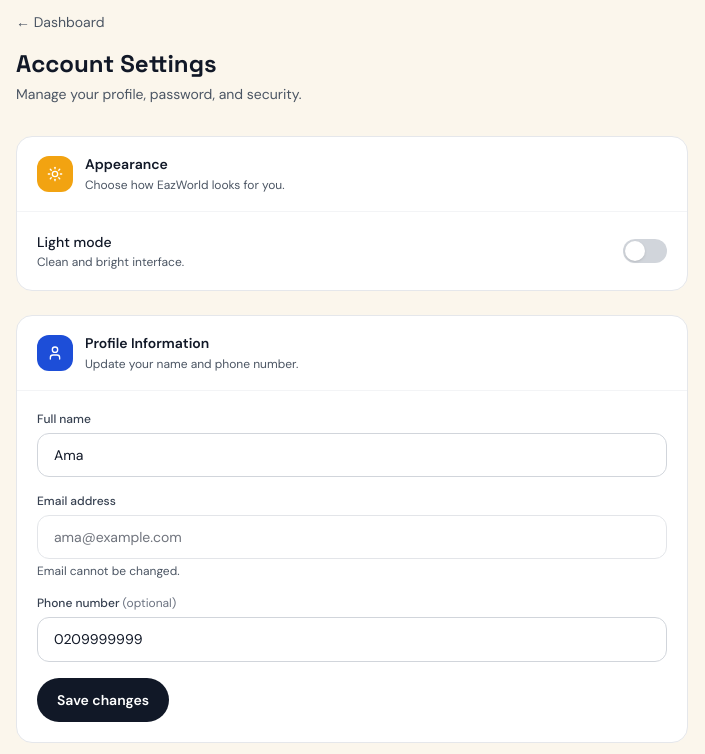
Test: Settings — phone change needs an SMS code (T84) › accepts only digits, capped at six
The width and height of the screenshot is (705, 754).
Step 1. Replace the text in the field labelled "Phone number (optional)" with "0244000111" → (352, 640), box [37, 617, 667, 662]
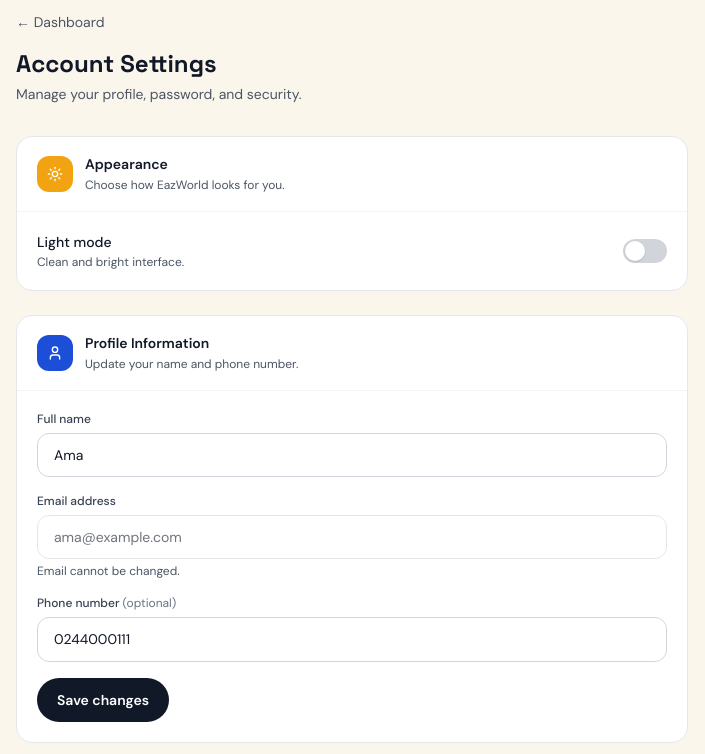
Step 2. Click the button "Save changes" → (103, 700), box [37, 678, 169, 722]
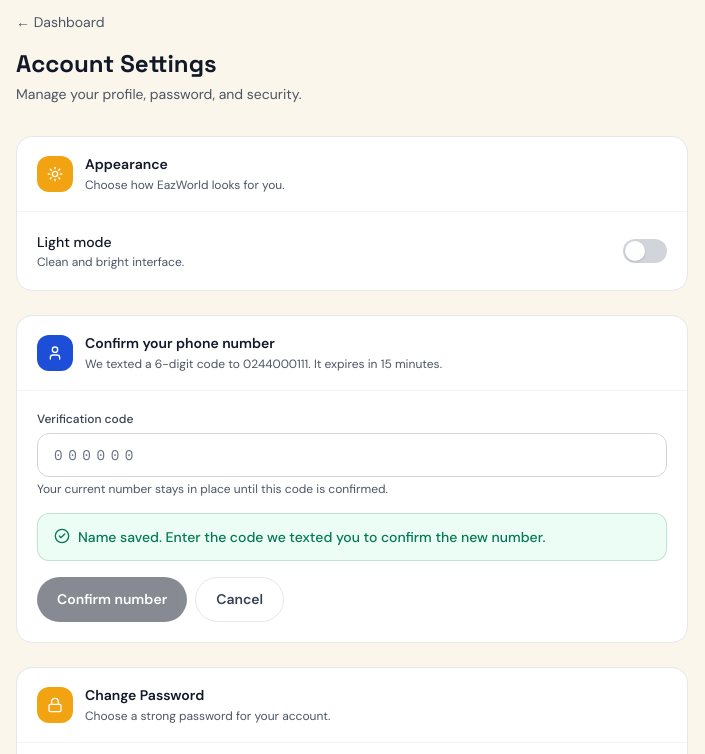
Step 3. Type "12ab34" into the field labelled "Verification code" → (352, 455), box [37, 433, 667, 477]
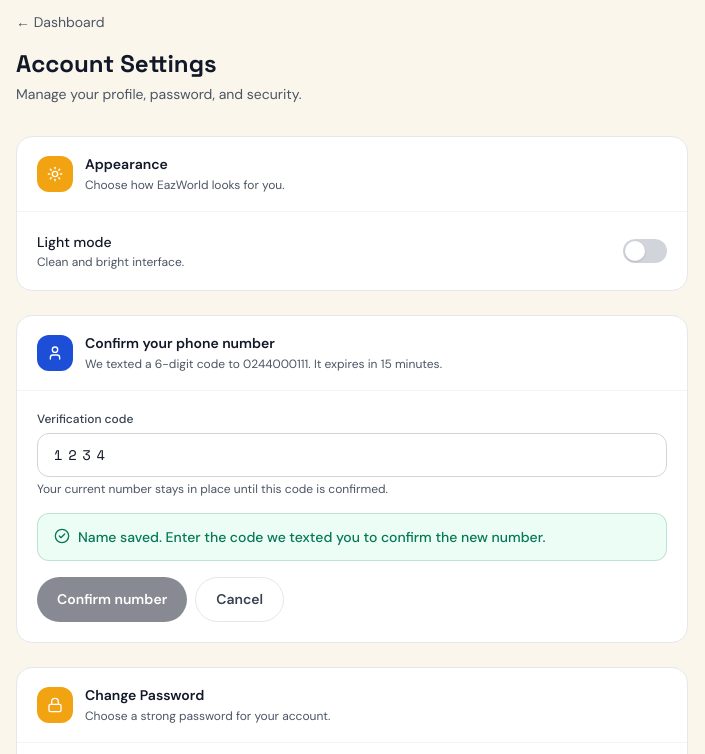
Expected: the field labelled "Verification code" holds "1234", [37, 433, 667, 477]
